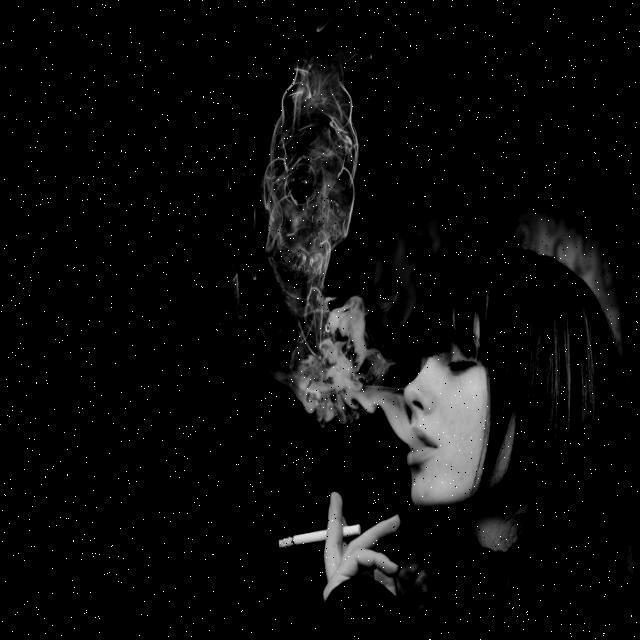smoke: (261, 37, 402, 439)
